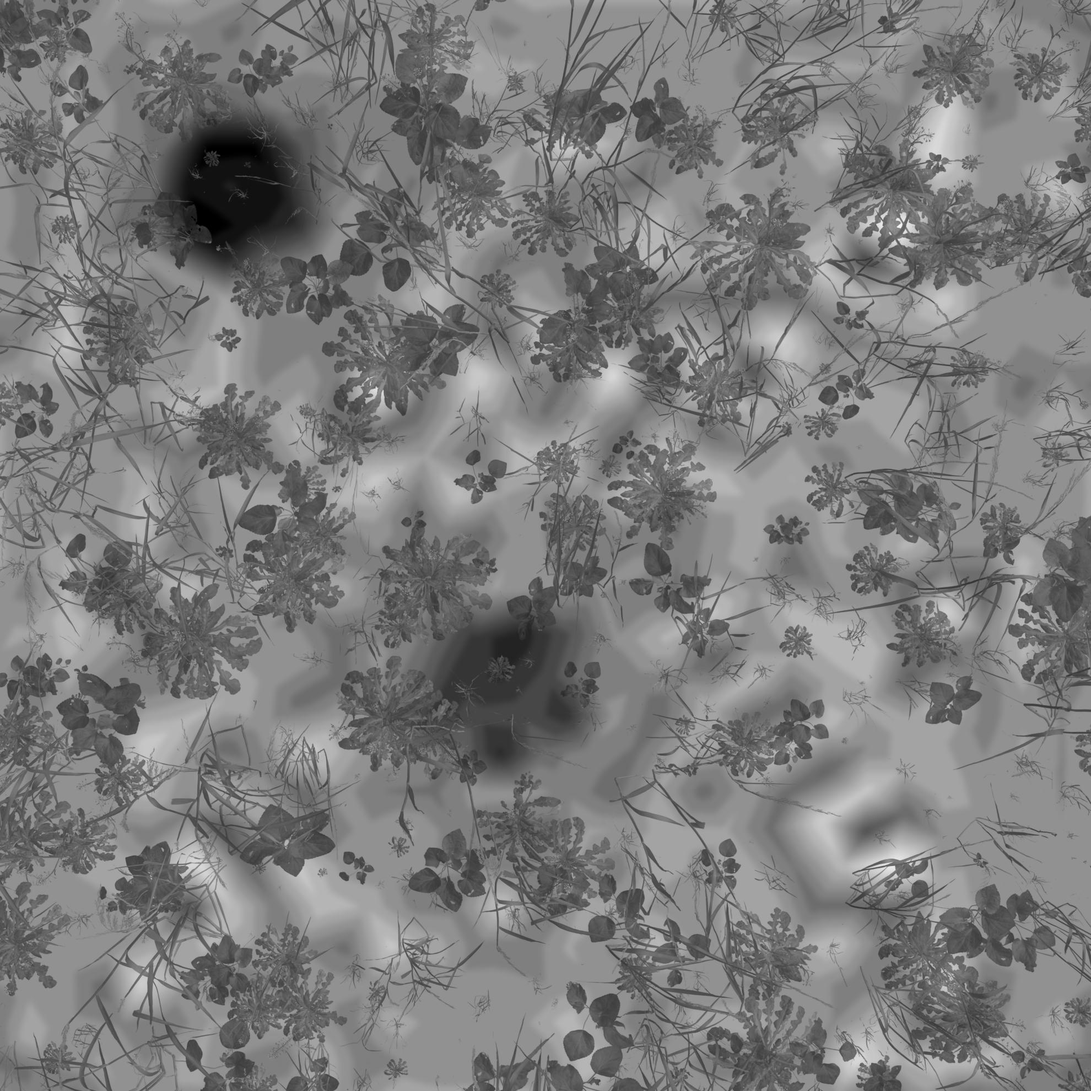landmine: (433, 600, 580, 758), (159, 120, 300, 245)
